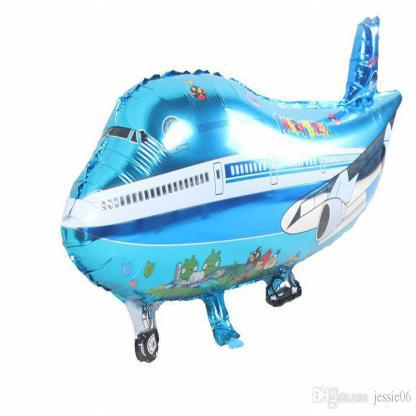CIV_Plane: (47, 12, 404, 376)
